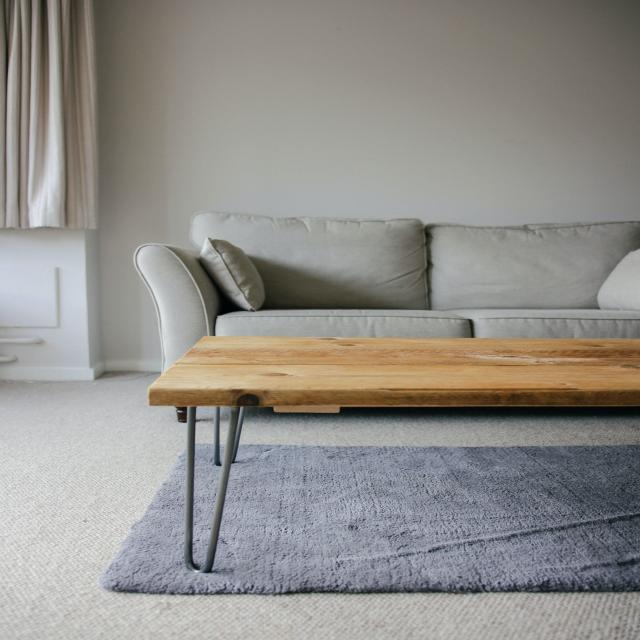floor: (0, 371, 640, 640), (192, 406, 222, 567), (219, 407, 231, 463), (219, 407, 221, 463)
